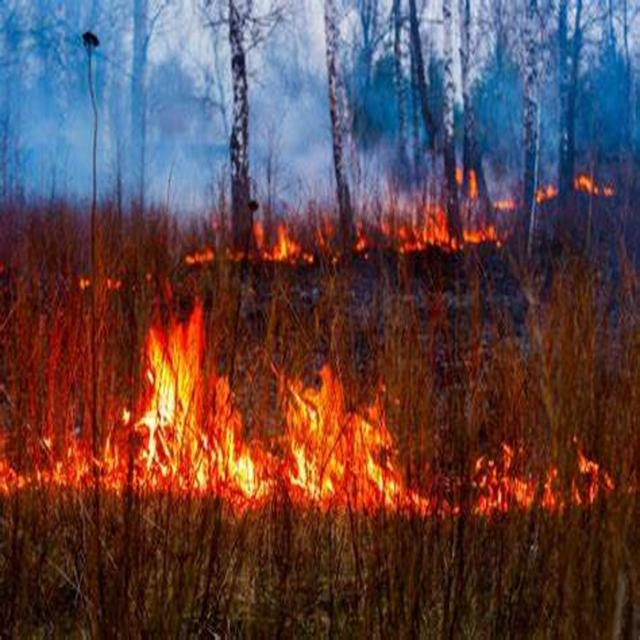fire: (274, 391, 414, 504), (144, 319, 226, 495), (410, 203, 452, 248), (268, 236, 298, 261)
smoke: (6, 20, 357, 210)
